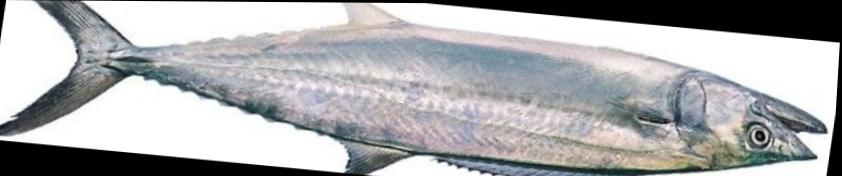fish: (0, 0, 831, 176)
